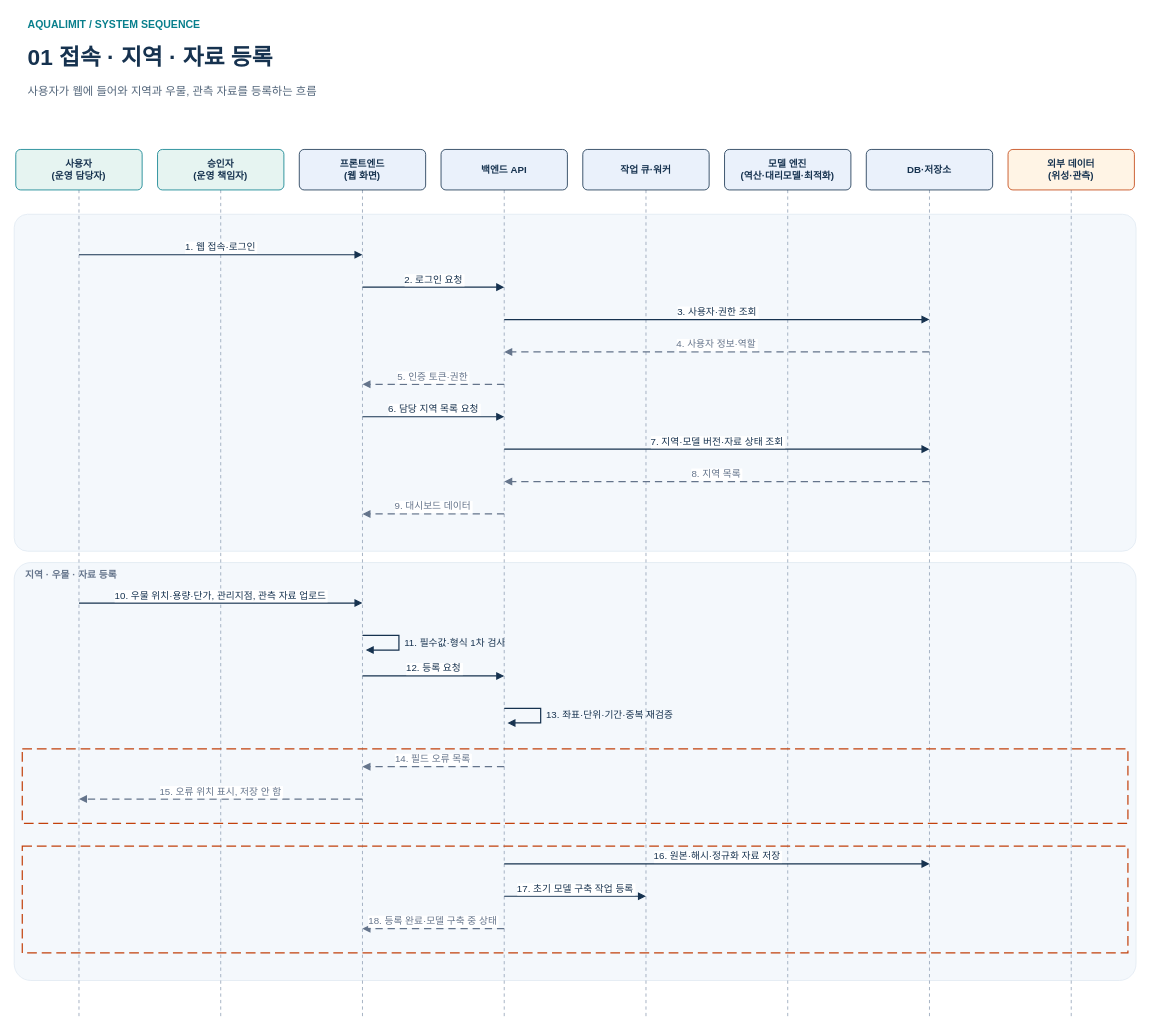
This 1150x1031 diagram has some shape labels left out. The shapes that lost their labels are listed below. From the top down, each one's box as (x1, y1, x2, y2) in pixels, then its label:
(13, 213, 1136, 551): 접속
(21, 748, 1128, 824): alt 검증 실패
(21, 845, 1128, 953): else 검증 통과
